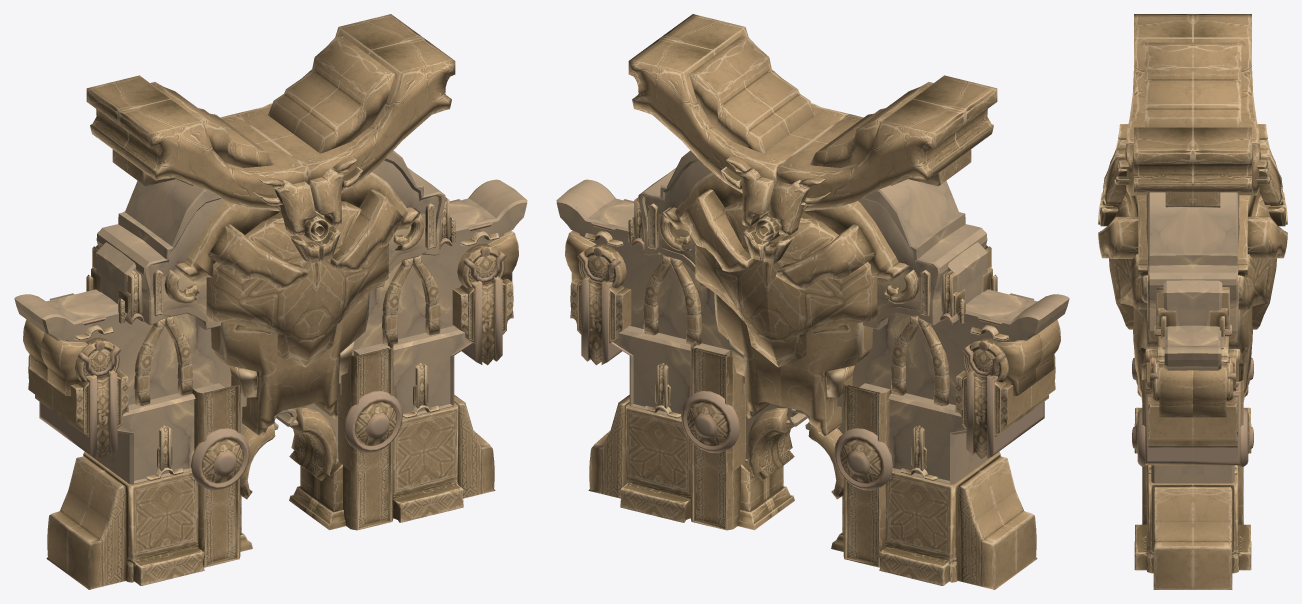
File: FBX_main_big_door.fbx
3 renders of one model, left to right at view 1: azimuth 30°, elevation 25°; view 2: azimuth 150°, elevation 25°; view 3: azimuth 270°, elevation 25°, orthographic. The views are drawn at different scales.
Parts seen in each view (by area): view 1: polySurface_big_door1; view 2: polySurface_big_door1; view 3: polySurface_big_door1.
Part boxes in pixels (x1,y1,x2,y2): polySurface_big_door1: [14, 14, 527, 589]; polySurface_big_door1: [556, 14, 1069, 589]; polySurface_big_door1: [1098, 14, 1287, 589].
Size of the model in its own units: 29.56 by 26.09 by 10.77.
